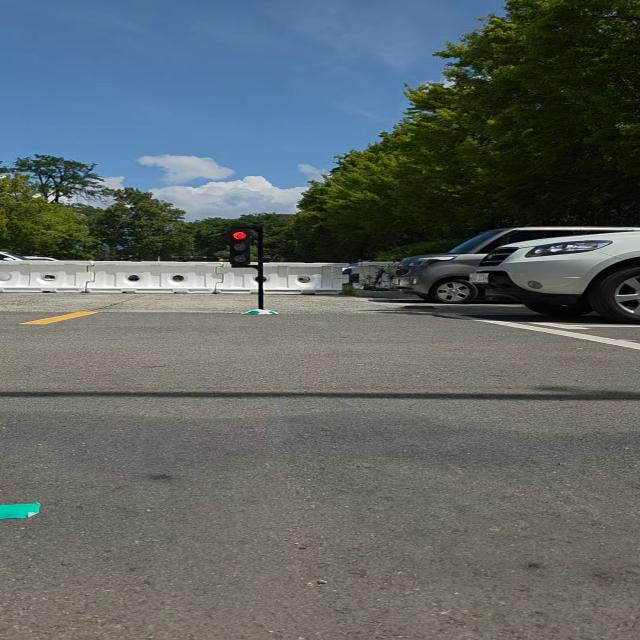red: (225, 228, 259, 266)
